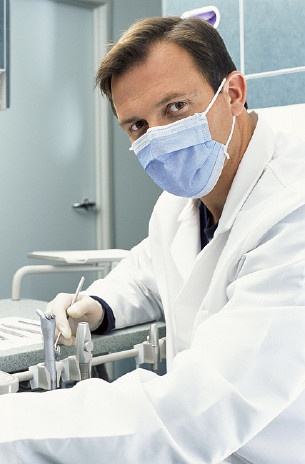Mask: (123, 87, 236, 200)
